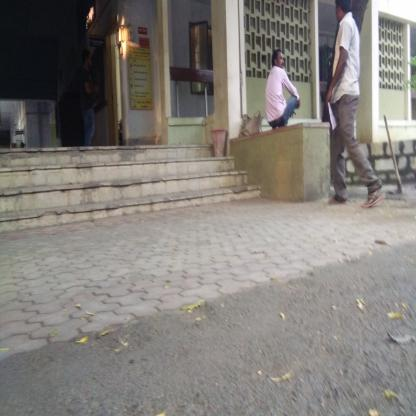stairs: (5, 143, 213, 229)
